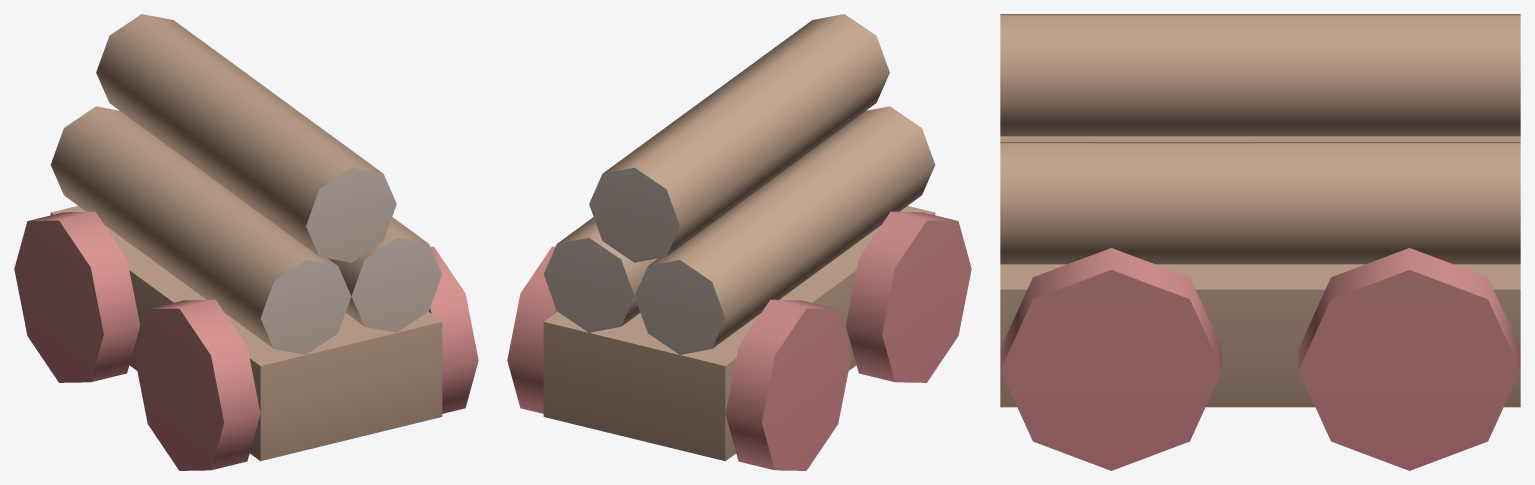
The model's file is toy-train-b.glb.
3 renders of one model, left to right at view 1: azimuth 30°, elevation 25°; view 2: azimuth 150°, elevation 25°; view 3: azimuth 270°, elevation 25°, orthographic. The views are drawn at different scales.
Parts seen in each view (by area): view 1: toy-train-b; view 2: toy-train-b; view 3: toy-train-b.
Part boxes in pixels (<box>): toy-train-b: <box>14,14,478,470</box>; toy-train-b: <box>507,14,971,470</box>; toy-train-b: <box>1000,14,1520,470</box>.
Size of the model in its own units: 0.07 by 0.0802 by 0.1.
